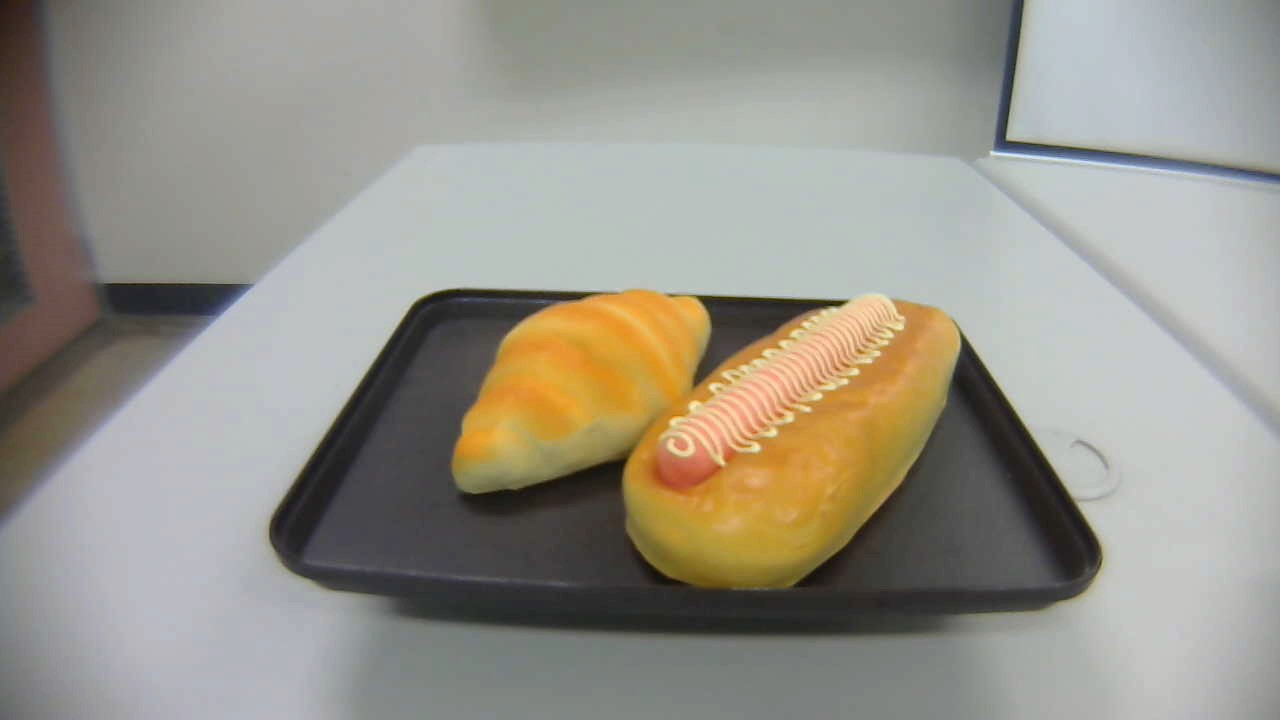croissant: (451, 287, 714, 492)
hot dog: (621, 298, 963, 593)
